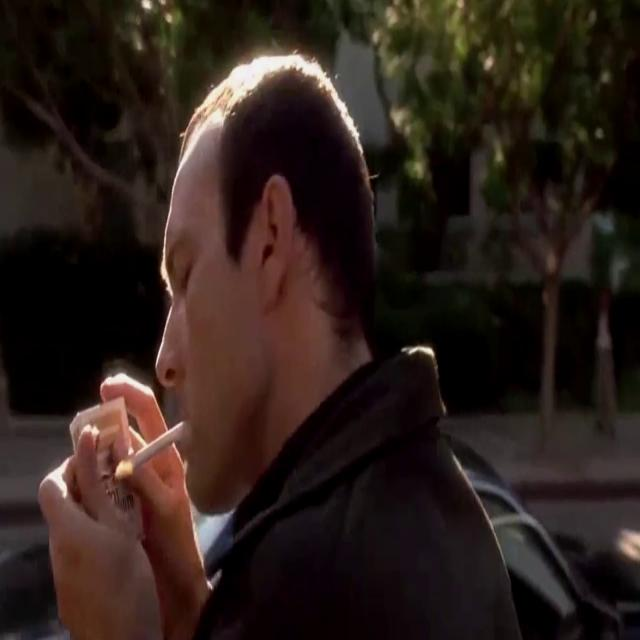Smooking: (112, 409, 191, 487)
